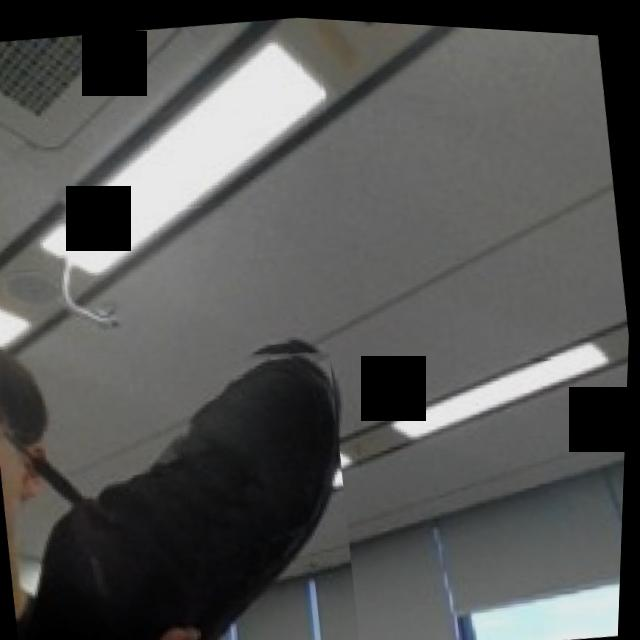shoe: (0, 314, 375, 640)
